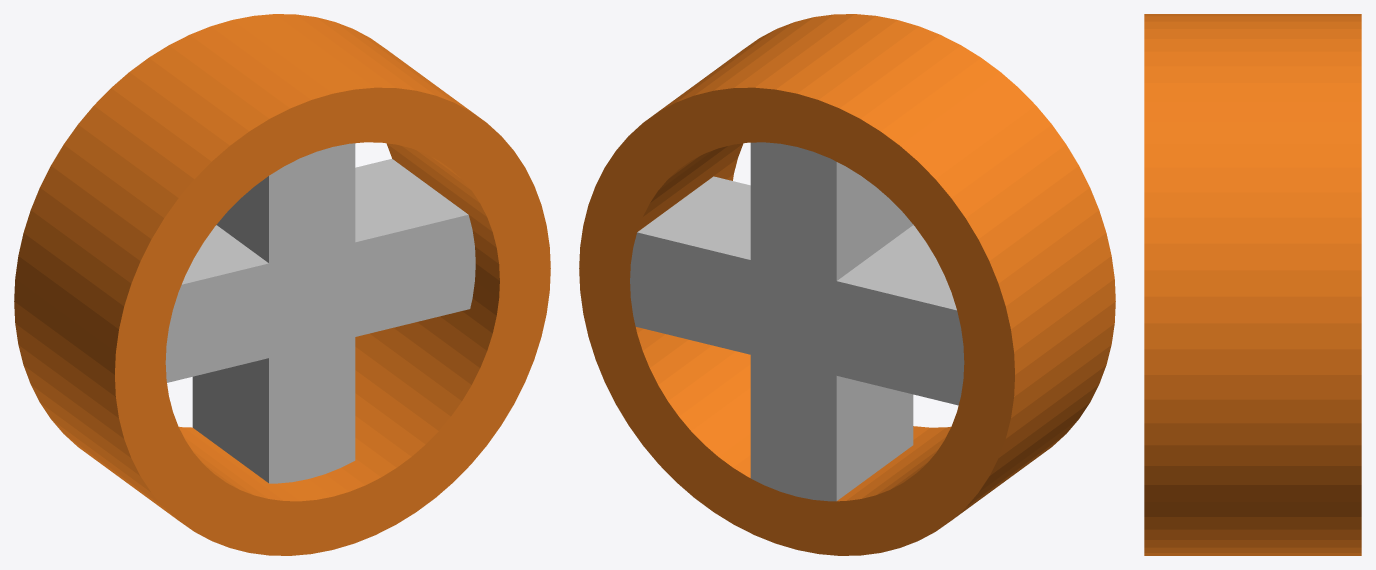
Rendered from wheelv2.obj.
3 renders of one model, left to right at view 1: azimuth 30°, elevation 25°; view 2: azimuth 150°, elevation 25°; view 3: azimuth 270°, elevation 25°, orthographic. The views are drawn at different scales.
Parts seen in each view (by area): view 1: group_0_16089887, group_0_15277357; view 2: group_0_16089887, group_0_15277357; view 3: group_0_16089887.
Part boxes in pixels (box(x1,y1,x2,y2)): group_0_16089887: box(14, 14, 550, 555); group_0_15277357: box(165, 143, 475, 483); group_0_16089887: box(579, 14, 1115, 555); group_0_15277357: box(630, 142, 964, 501); group_0_16089887: box(1144, 14, 1361, 555).
Bounding box in the file's own units: 50 × 50 × 20.
